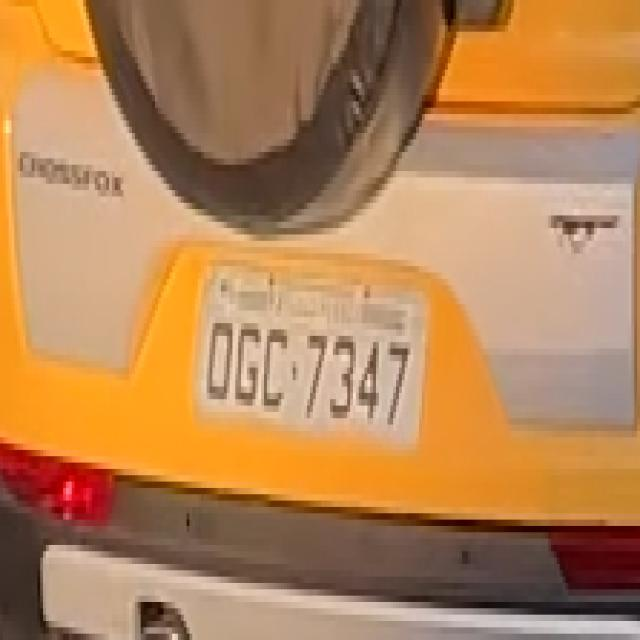Placa_mercosul_carro: (194, 266, 430, 449)
